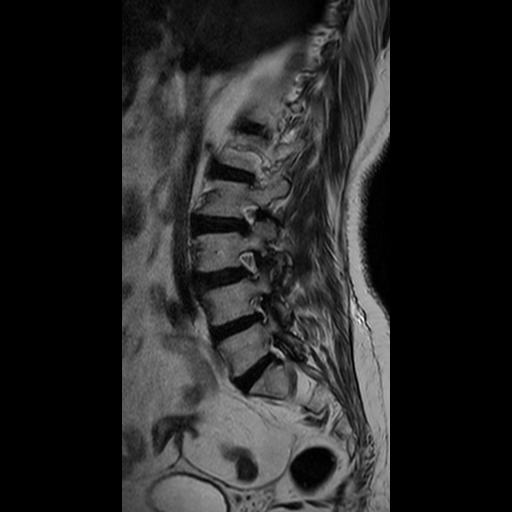RFS0: (227, 240, 272, 289), (229, 194, 271, 241)
RFS2: (241, 287, 283, 334)
